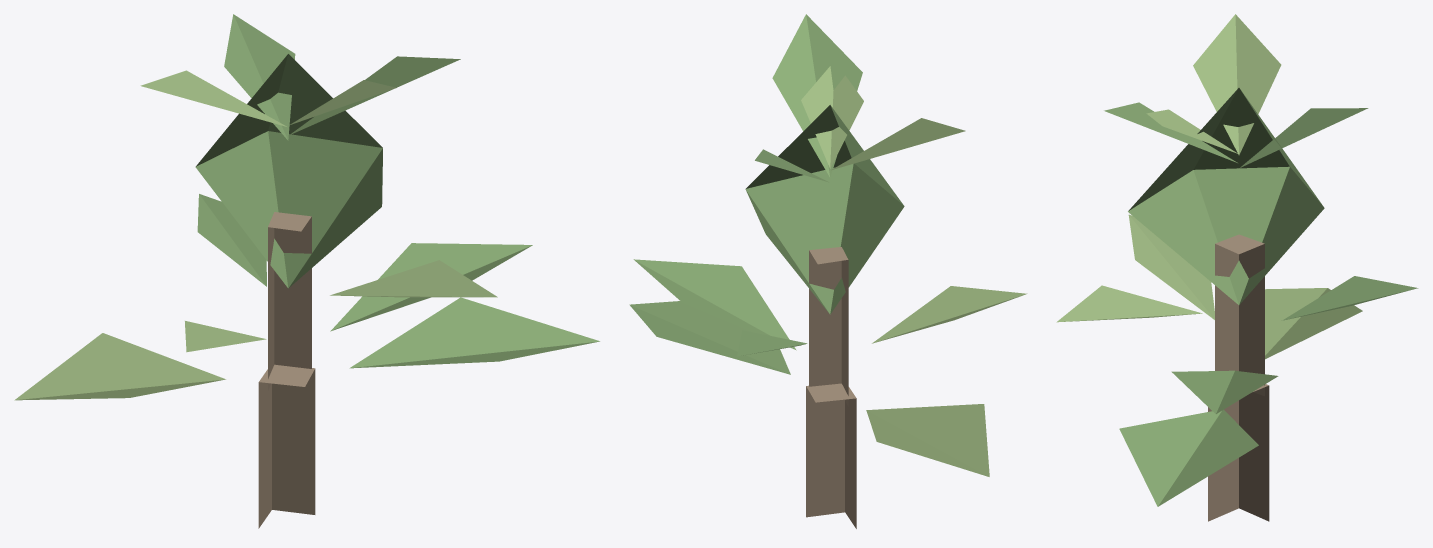
The model's file is shu.luoye@seedling__spring.glb.
3 views of the same model, side by side, from view 1: azimuth 30°, elevation 25°; view 2: azimuth 150°, elevation 25°; view 3: azimuth 270°, elevation 25° (orthographic). The views are drawn at different scales.
Parts seen in each view (by area): view 1: shu.luoye@seedling__spring; view 2: shu.luoye@seedling__spring; view 3: shu.luoye@seedling__spring.
Boxes of the visible parts, <box> form: shu.luoye@seedling__spring: <box>14,14,599,528</box>; shu.luoye@seedling__spring: <box>629,14,1027,528</box>; shu.luoye@seedling__spring: <box>1056,14,1418,521</box>.
Size of the model in its own units: 1.76 by 1.67 by 1.2.
